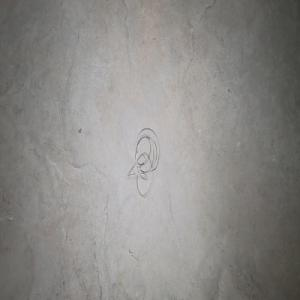Wire: (126, 128, 159, 195)
